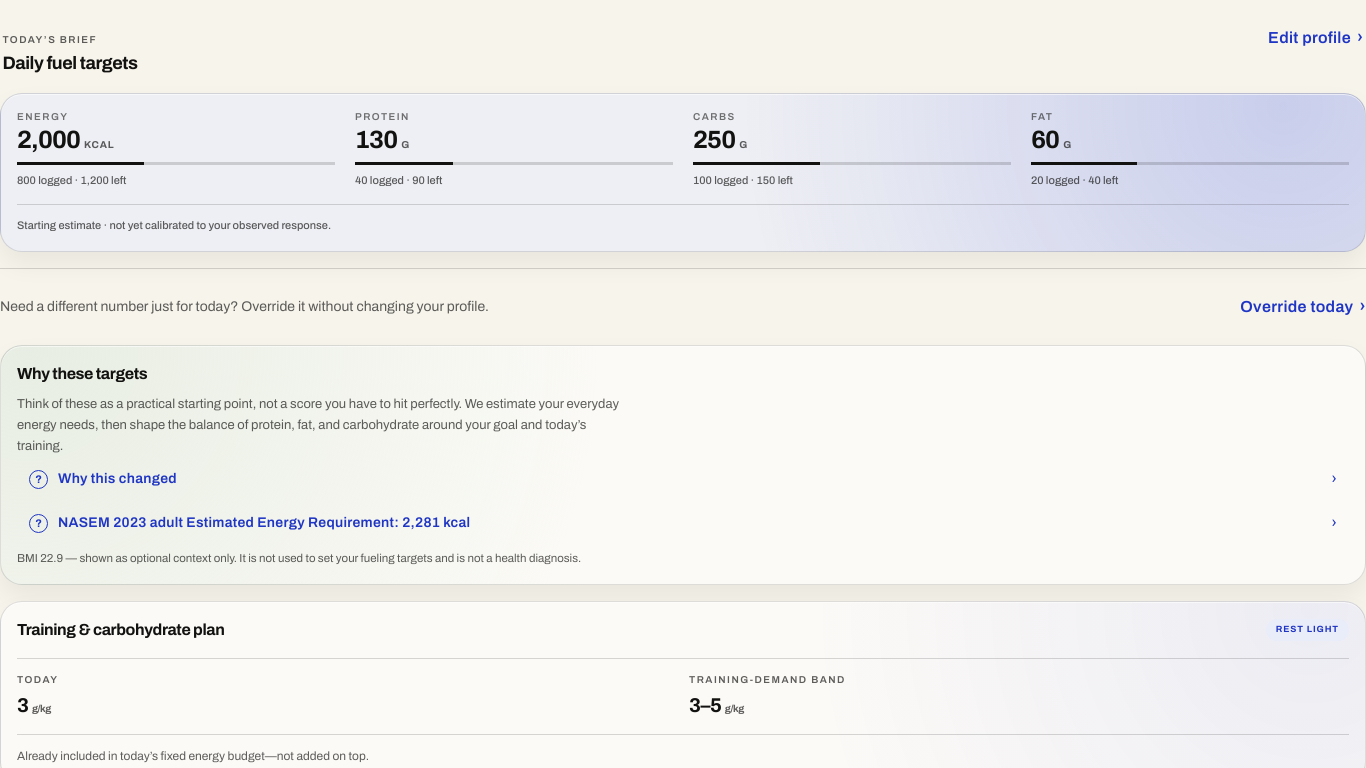
Test: AdaptiveFuelPlan: a rest day › shows the v1 calculation basis, uncertainty, and starting-estimate limitation
Click the 4th button.
click(264, 523)  # box [17,501,1349,545]
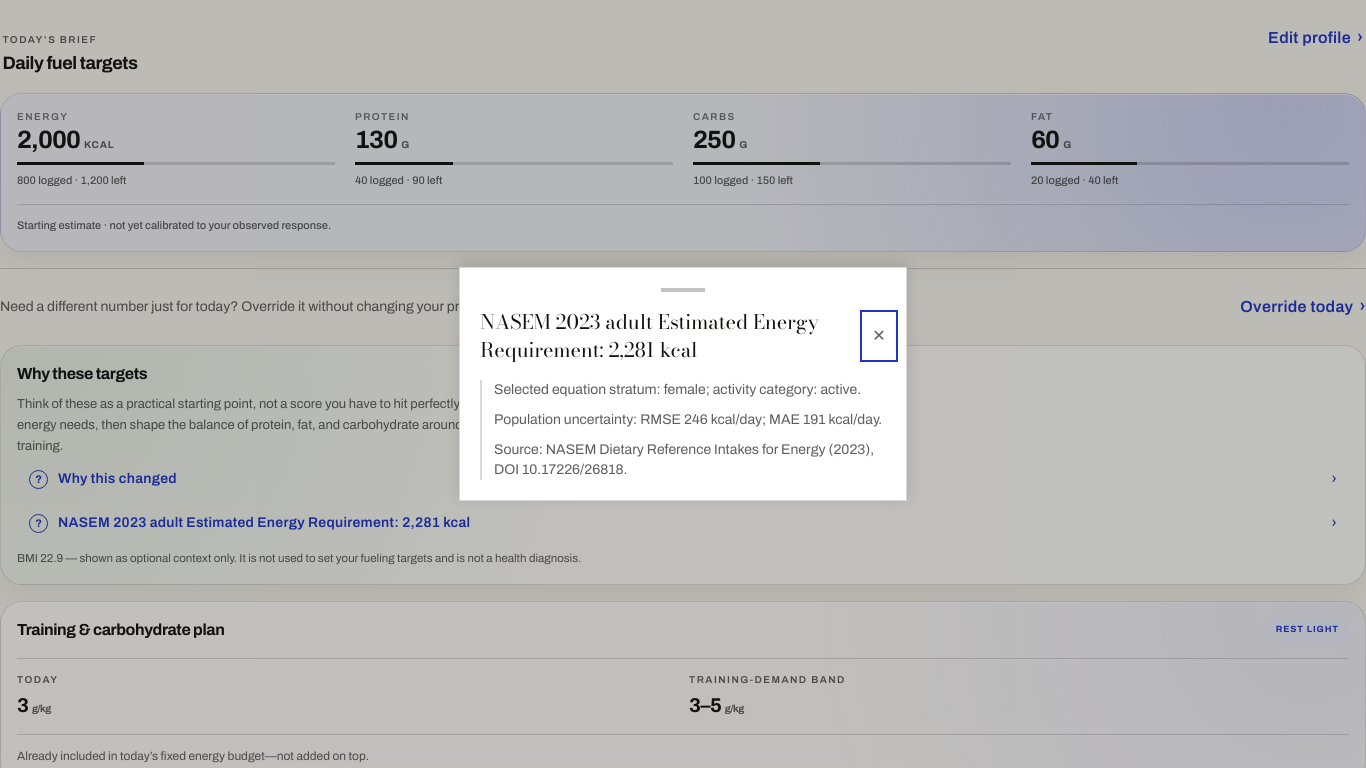
Check: the text "not yet calibrated to your observed response" is shown, box [17,219,331,231]
Check: the text "RMSE 246 kcal/day" is shown, box [494,412,882,427]
Check: the text "10.17226/26818" is shown, box [494,442,874,477]
